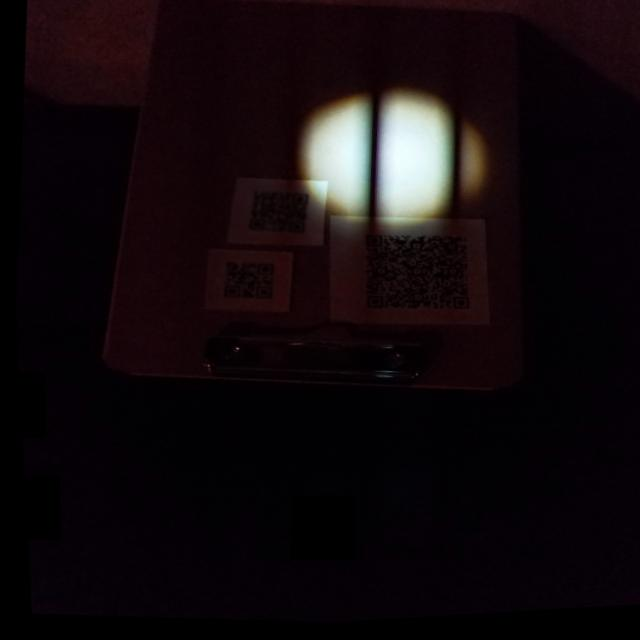QR_CODE: (342, 224, 487, 336), (220, 177, 315, 249), (203, 251, 282, 319)
